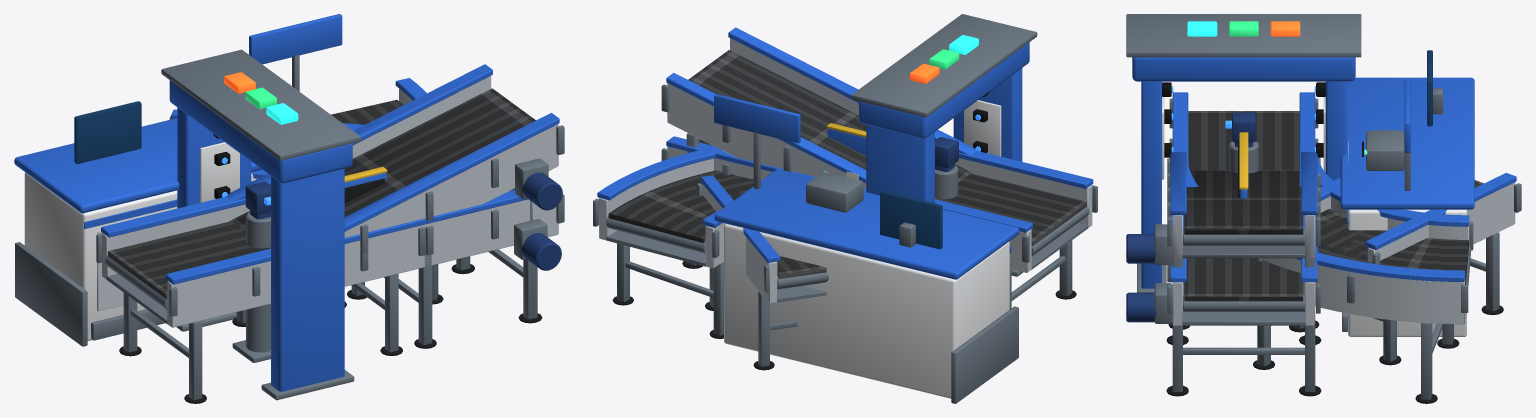
Rendered from conveyors.glb.
3 views of the same model, side by side, from view 1: azimuth 30°, elevation 25°; view 2: azimuth 150°, elevation 25°; view 3: azimuth 270°, elevation 25° (orthographic). The views are drawn at different scales.
Visible parts, largest first — view 1: read_arch_body, checkin_desk_body, conv_incline_frame, checkin_desk_frame, conv_merge_frame, conv_incline_belt, checkin_desk_belt, diverter_paddle_post, diverter_paddle_arm, conv_curve90_frame, conv_curve90_belt, read_arch_lamp_idle (+2 smaller); view 2: checkin_desk_body, read_arch_body, conv_incline_frame, conv_curve90_frame, checkin_desk_frame, conv_incline_belt, conv_merge_feeder_frame, conv_curve90_belt, checkin_desk_belt, diverter_paddle_post, conv_straight_frame, diverter_paddle_arm (+2 smaller); view 3: read_arch_body, checkin_desk_body, conv_curve90_frame, conv_incline_frame, conv_incline_belt, conv_merge_frame, conv_merge_feeder_frame, checkin_desk_belt, conv_merge_belt, conv_curve90_belt, checkin_desk_frame, diverter_paddle_post (+5 smaller).
Part boxes in pixels (bbox=[...]): read_arch_body: bbox=[161, 49, 360, 400]; checkin_desk_body: bbox=[14, 14, 342, 346]; conv_incline_frame: bbox=[226, 64, 564, 348]; checkin_desk_frame: bbox=[96, 196, 425, 403]; conv_merge_frame: bbox=[344, 190, 564, 344]; conv_incline_belt: bbox=[232, 88, 535, 248]; checkin_desk_belt: bbox=[108, 221, 269, 298]; diverter_paddle_post: bbox=[232, 181, 270, 362]; diverter_paddle_arm: bbox=[250, 166, 387, 219]; conv_curve90_frame: bbox=[224, 78, 443, 326]; conv_curve90_belt: bbox=[229, 100, 403, 221]; read_arch_lamp_idle: bbox=[266, 103, 298, 124]; checkin_desk_body: bbox=[714, 94, 1019, 403]; read_arch_body: bbox=[851, 14, 1037, 276]; conv_incline_frame: bbox=[661, 27, 976, 267]; conv_curve90_frame: bbox=[593, 146, 866, 338]; checkin_desk_frame: bbox=[935, 151, 1097, 309]; conv_incline_belt: bbox=[688, 50, 971, 199]; conv_merge_feeder_frame: bbox=[696, 175, 828, 370]; conv_curve90_belt: bbox=[608, 170, 936, 242]; checkin_desk_belt: bbox=[936, 173, 1086, 245]; diverter_paddle_post: bbox=[935, 137, 958, 199]; conv_straight_frame: bbox=[667, 137, 866, 189]; diverter_paddle_arm: bbox=[826, 123, 954, 171]; read_arch_body: bbox=[1126, 14, 1361, 292]; checkin_desk_body: bbox=[1340, 50, 1474, 336]; conv_curve90_frame: bbox=[1167, 151, 1473, 403]; conv_incline_frame: bbox=[1126, 152, 1321, 396]; conv_incline_belt: bbox=[1184, 170, 1303, 234]; conv_merge_frame: bbox=[1126, 215, 1320, 393]; conv_merge_feeder_frame: bbox=[1289, 173, 1521, 365]; checkin_desk_belt: bbox=[1188, 111, 1299, 170]; conv_merge_belt: bbox=[1184, 258, 1303, 301]; conv_curve90_belt: bbox=[1266, 170, 1468, 284]; checkin_desk_frame: bbox=[1168, 92, 1319, 329]; diverter_paddle_post: bbox=[1225, 112, 1258, 173].
Bounding box in the file's own units: 3.03 × 1.88 × 2.66.
17 materials, 1 textured.
